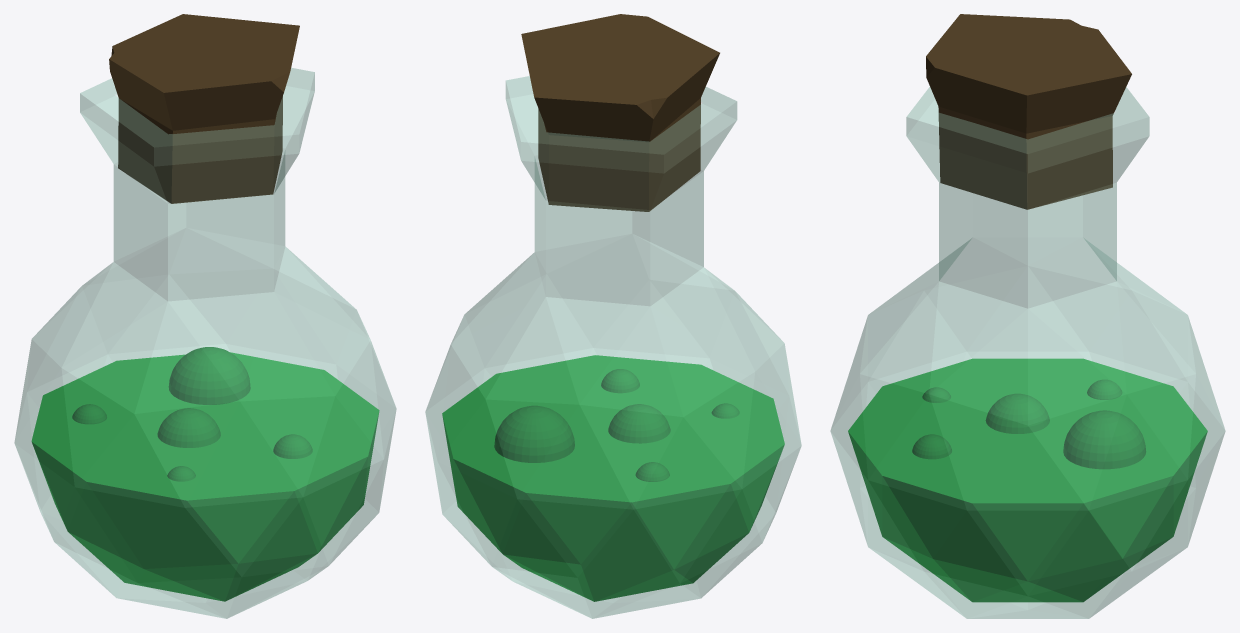
The model's file is pocao_citrica.glb.
The picture shows the model from 3 angles, left to right: view 1: azimuth 30°, elevation 25°; view 2: azimuth 150°, elevation 25°; view 3: azimuth 270°, elevation 25°; orthographic projection. The views are drawn at different scales.
Parts seen in each view (by area): view 1: Sise, Merged, Sise.002; view 2: Sise, Merged, Sise.002; view 3: Sise, Merged, Sise.002.
Boxes of the visible parts, x1,y1,x2,y2 form: Sise: [14, 67, 396, 618]; Merged: [31, 347, 379, 601]; Sise.002: [109, 14, 299, 203]; Sise: [425, 76, 801, 618]; Merged: [442, 355, 784, 601]; Sise.002: [521, 14, 719, 211]; Sise: [830, 87, 1225, 618]; Merged: [848, 358, 1207, 602]; Sise.002: [926, 14, 1131, 209].
Bounding box in the file's own units: 1.9 × 3.14 × 2.
